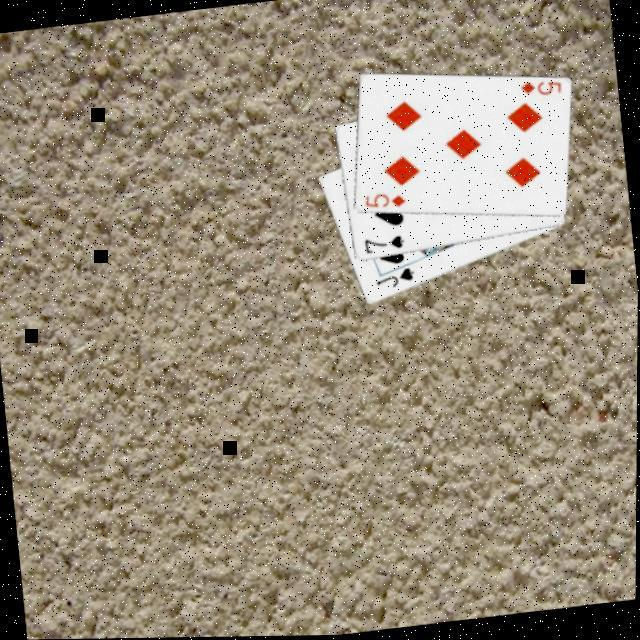5D: (518, 73, 566, 101), (362, 186, 410, 213)
7S: (362, 230, 409, 256)
JS: (373, 262, 420, 292)
